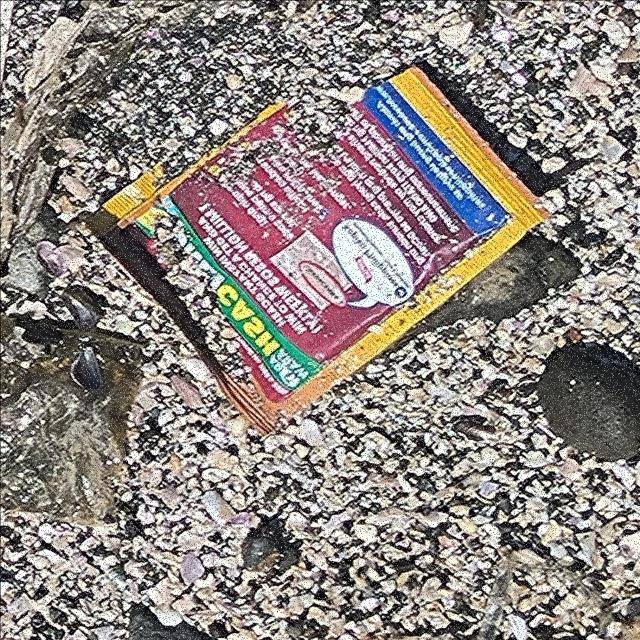plastic_waste: (80, 63, 557, 438)
